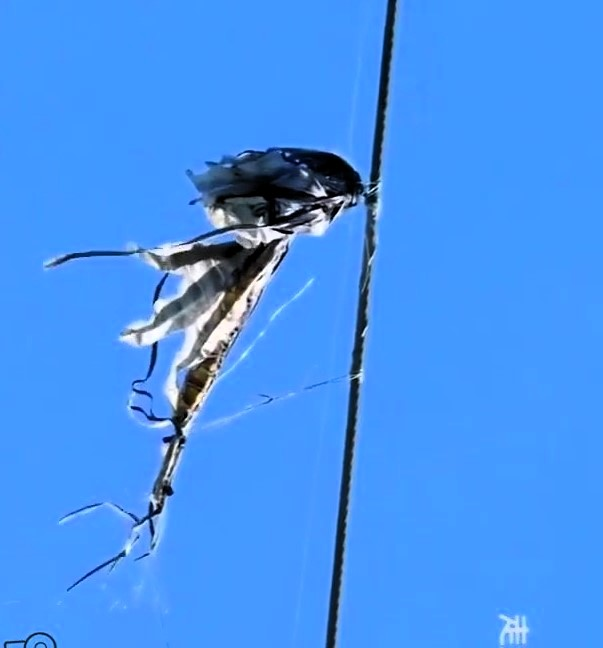wire foreign body: (89, 131, 407, 467)
